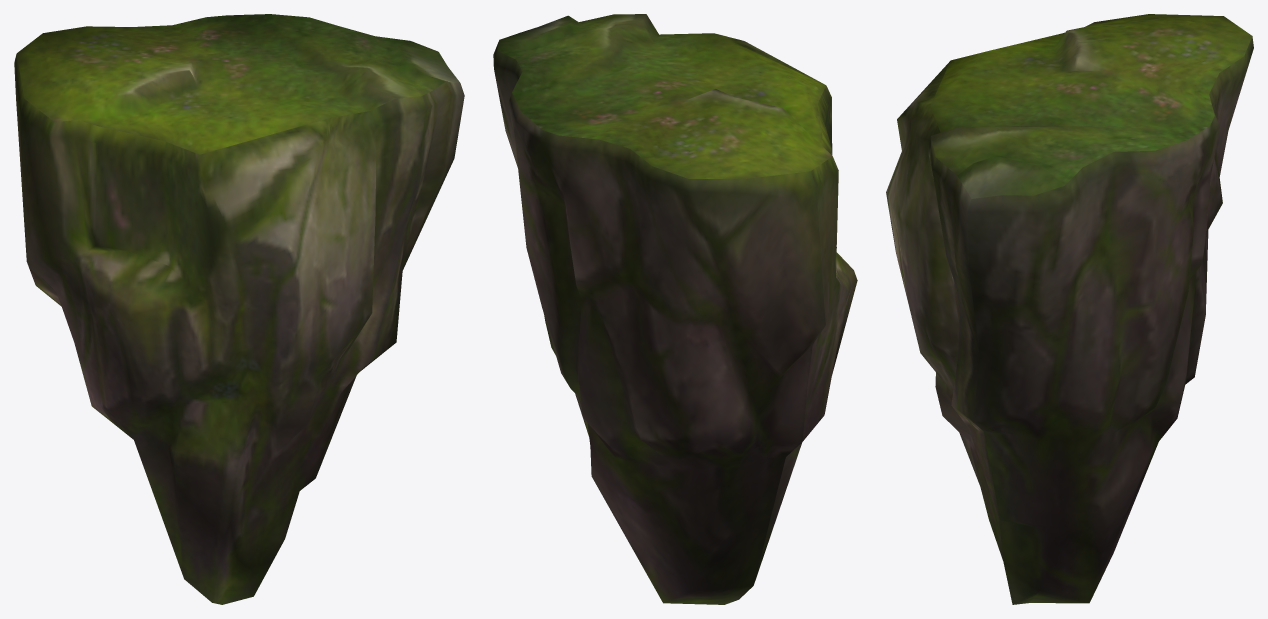
3 views of the same model, side by side, from view 1: azimuth 30°, elevation 25°; view 2: azimuth 150°, elevation 25°; view 3: azimuth 270°, elevation 25° (orthographic). The views are drawn at different scales.
Parts seen in each view (by area): view 1: A_ST_03; view 2: A_ST_03; view 3: A_ST_03.
Part boxes in pixels (box(x1,y1,x2,y2)): A_ST_03: box(14, 14, 464, 604); A_ST_03: box(493, 14, 857, 604); A_ST_03: box(886, 14, 1253, 604).
Bounding box in the file's own units: 184 × 248 × 153.
